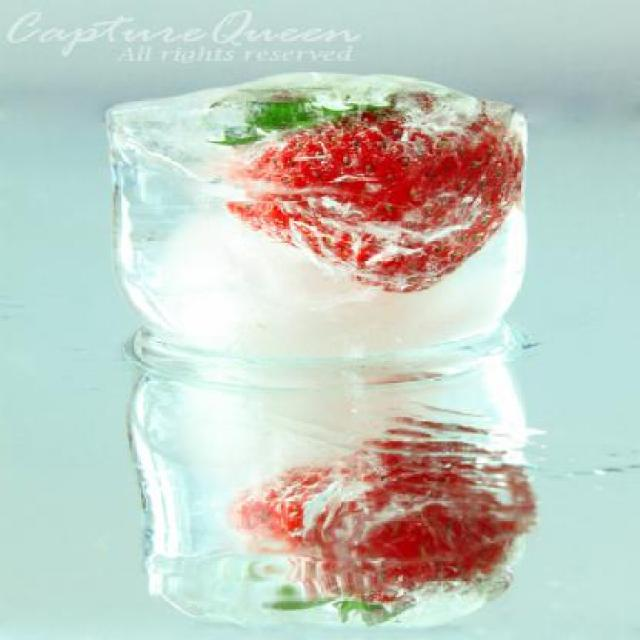Strawberry: (200, 80, 523, 294), (228, 422, 542, 626)
